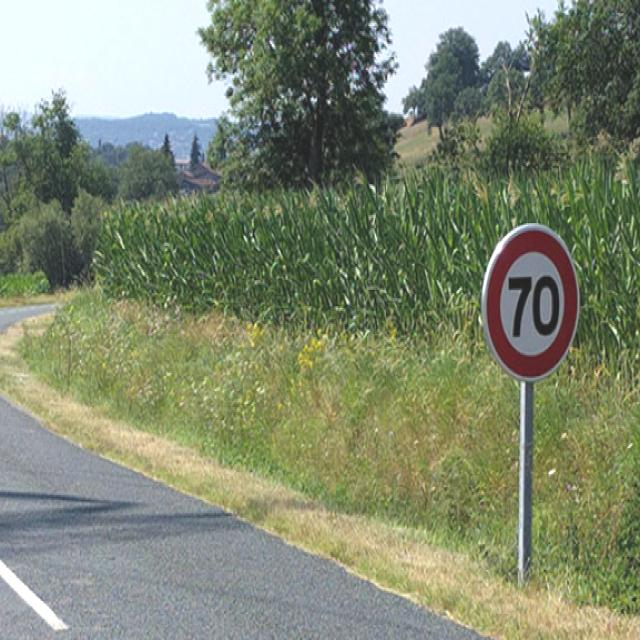speed_70: (482, 220, 579, 384)
